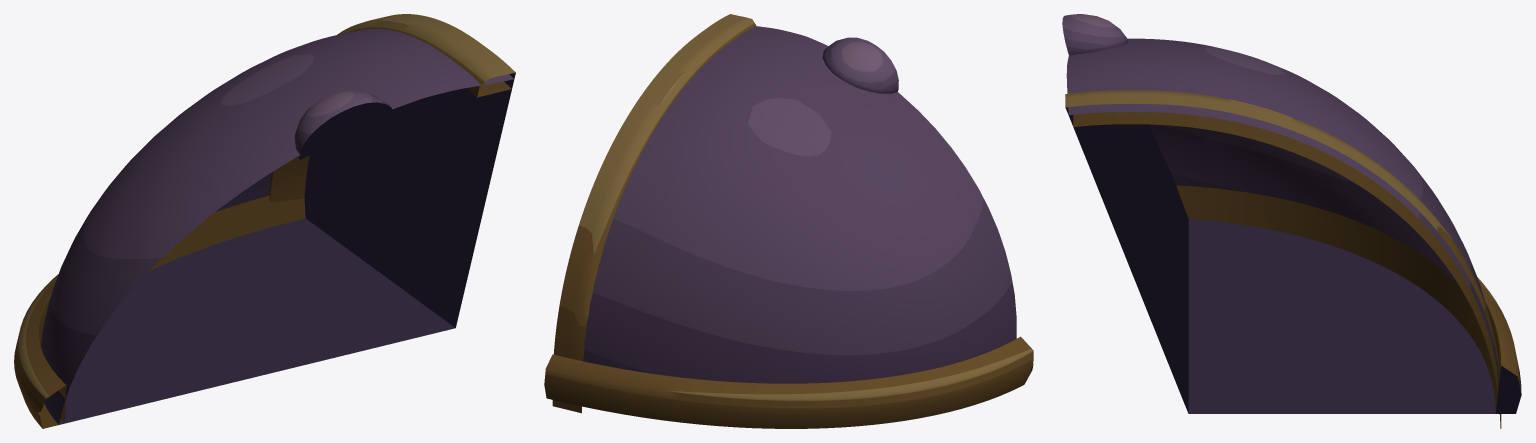
File: coral_dome_tl.glb
3 renders of one model, left to right at view 1: azimuth 30°, elevation 25°; view 2: azimuth 150°, elevation 25°; view 3: azimuth 270°, elevation 25°, orthographic. The views are drawn at different scales.
Parts seen in each view (by area): view 1: coral_dome_tl; view 2: coral_dome_tl; view 3: coral_dome_tl.
Part boxes in pixels (<box>): coral_dome_tl: <box>14,14,515,428</box>; coral_dome_tl: <box>544,14,1033,428</box>; coral_dome_tl: <box>1062,14,1521,428</box>.
Bounding box in the file's own units: 24 × 17.7 × 22.26.
